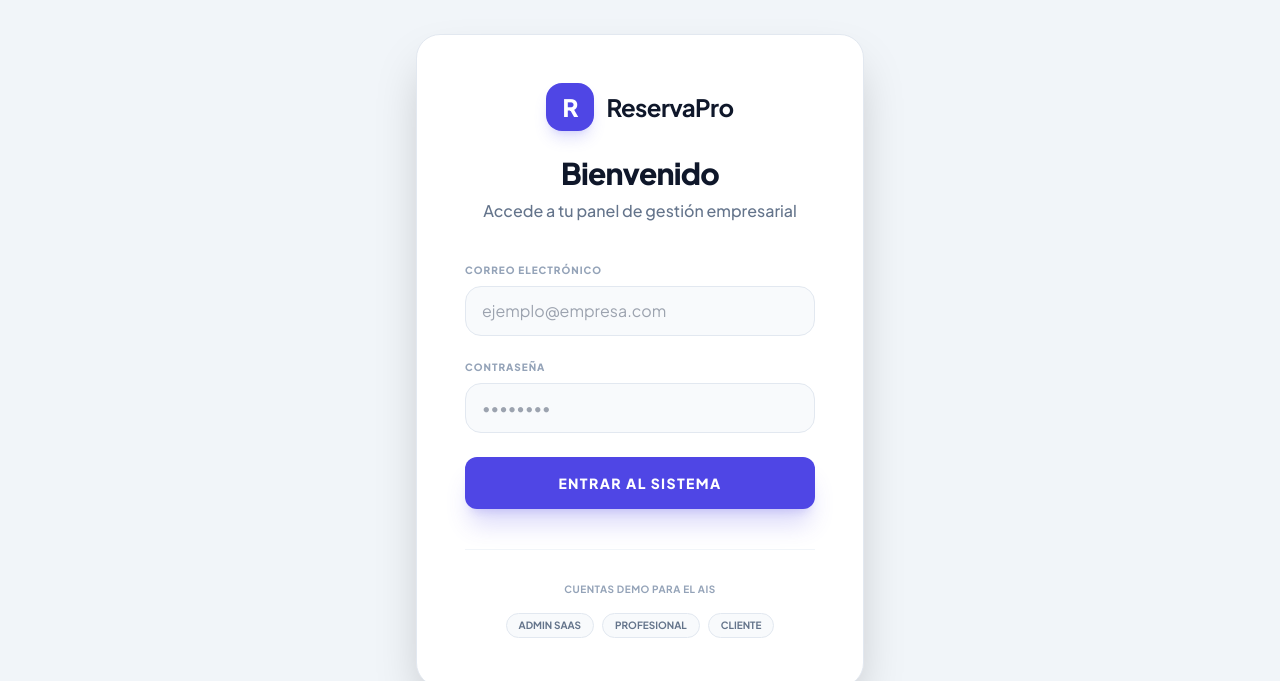
Scenario: Pruebas del módulo profesional › 7) Crear cliente => aparece en lista
In the field with test id "login-email": point(640, 311) [465,286,815,336], type "roberto@saludplus.com"
In the password field with test id "login-password": point(640, 408) [465,383,815,433], type "propassword"
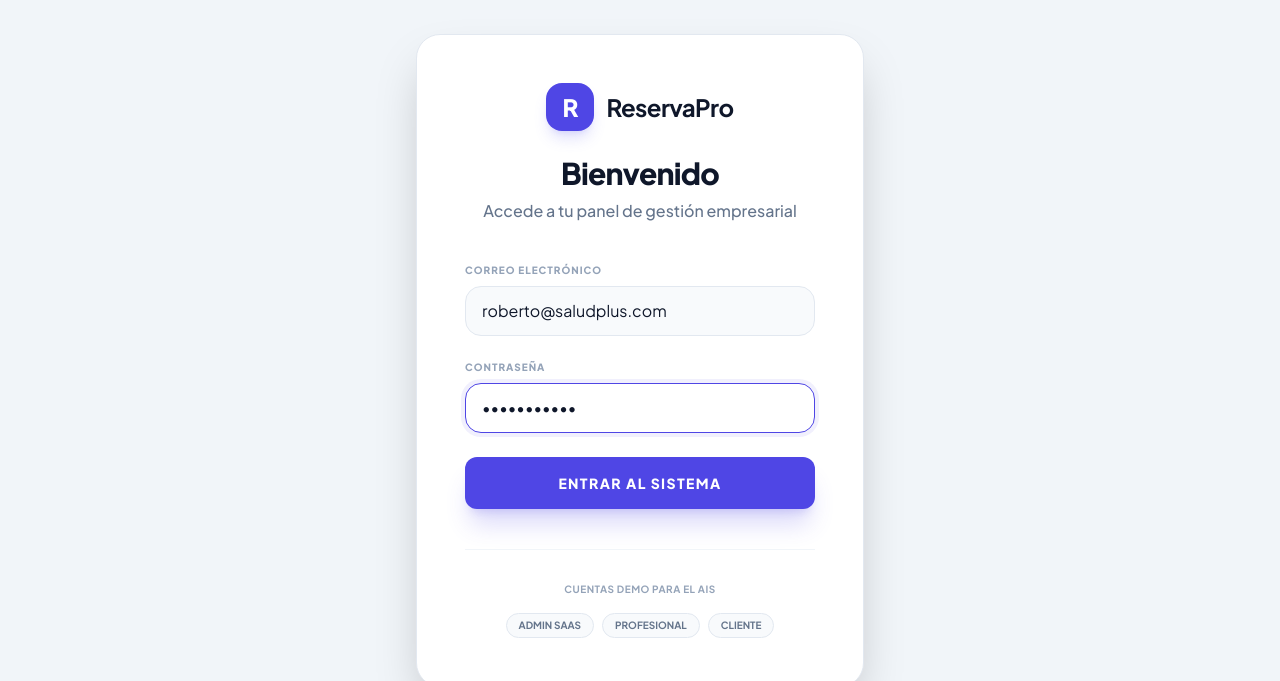
Click the button with test id "login-submit": point(640, 483) [465,457,815,509]
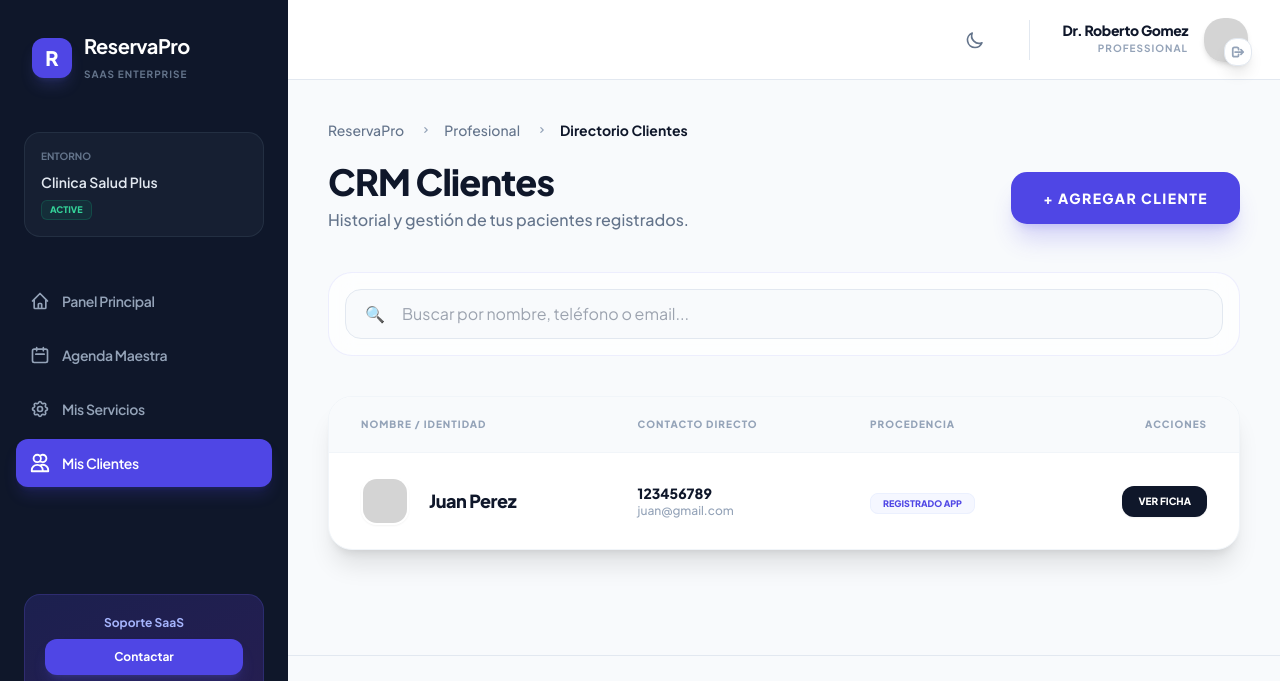
Click the button "+ Agregar Cliente": point(1126, 198) [1011,172,1240,224]
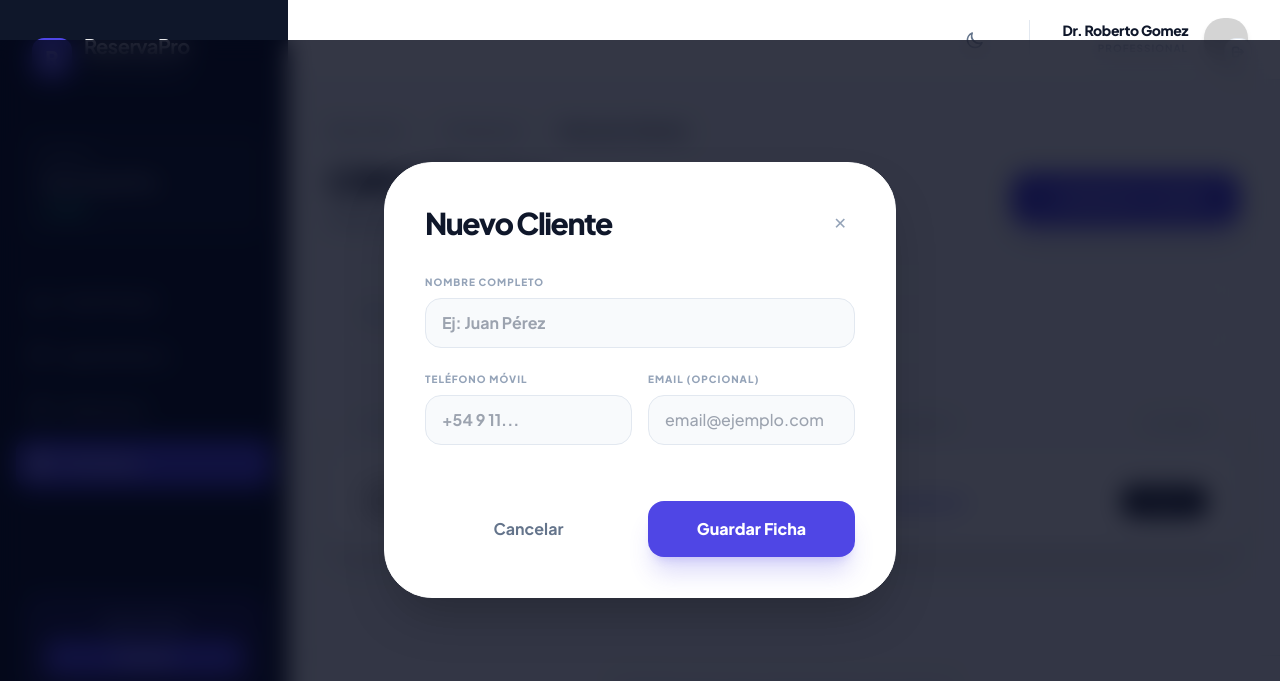
In the field with placeholder "Ej: Juan Pérez": point(640, 323) [425,298,855,348], type "Nuevo Cliente Cypress"
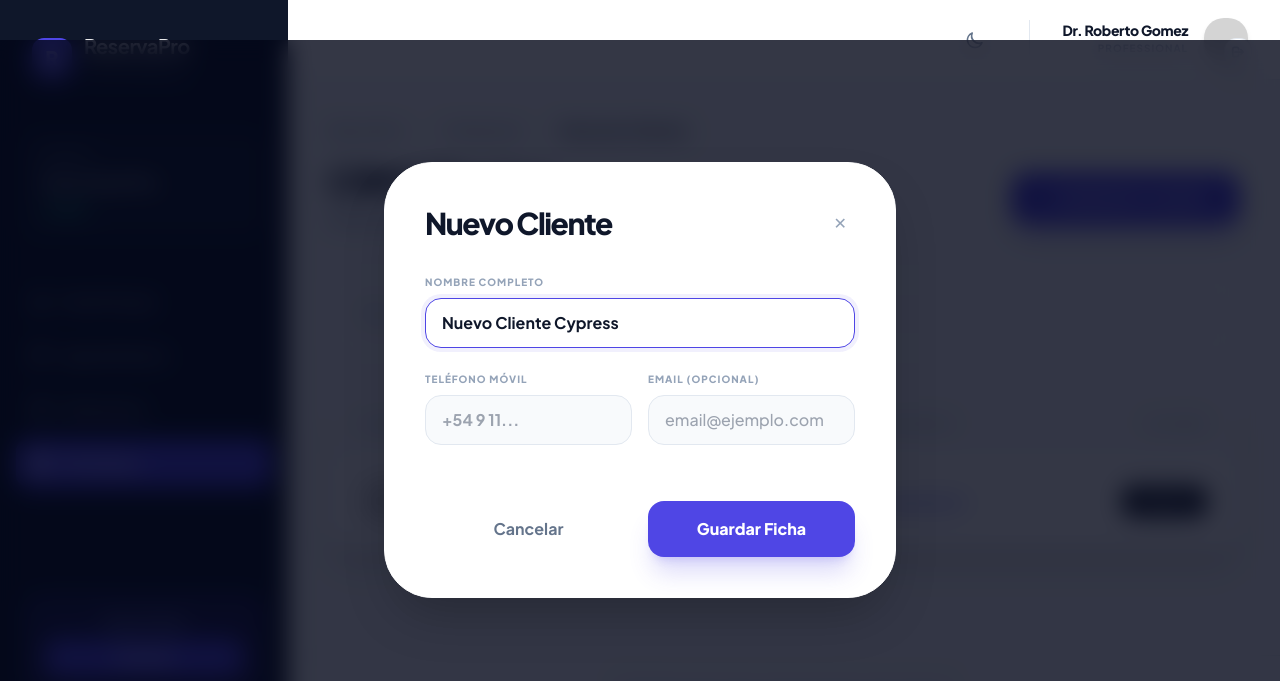
In the field with placeholder "+54 9 11...": point(529, 420) [425,395,632,445], type "12345678"
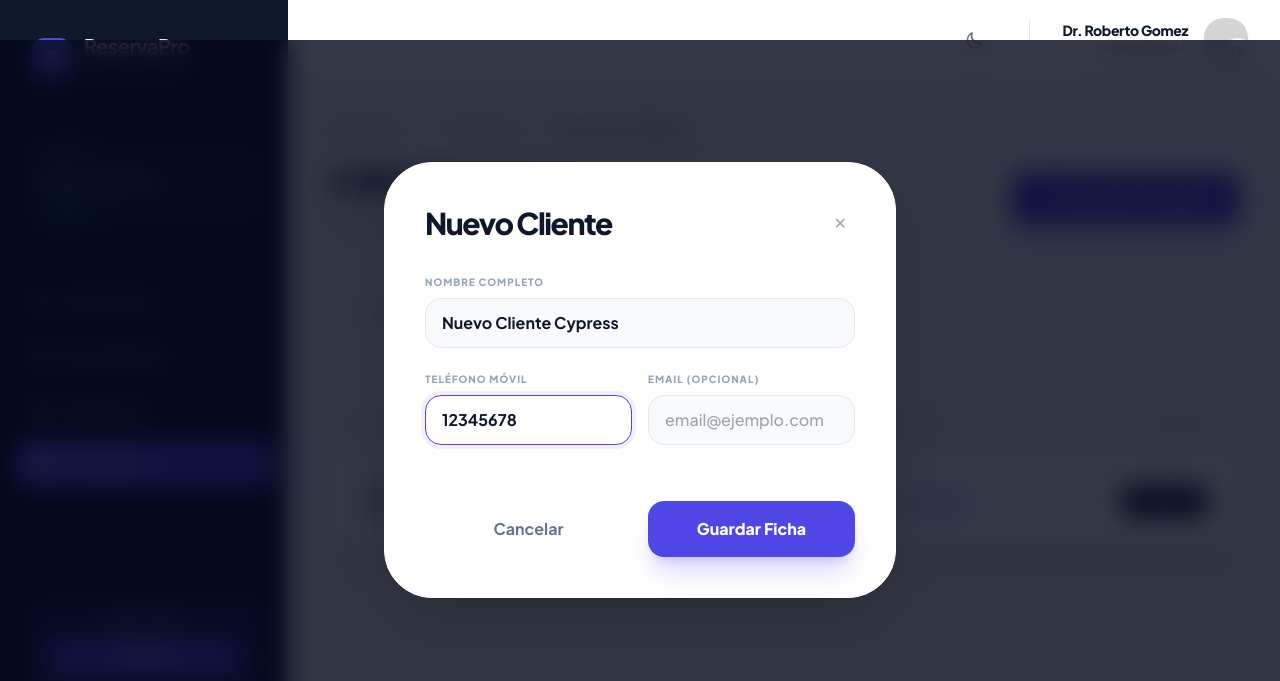
Click the button "Guardar Ficha": point(752, 529) [648,501,855,557]
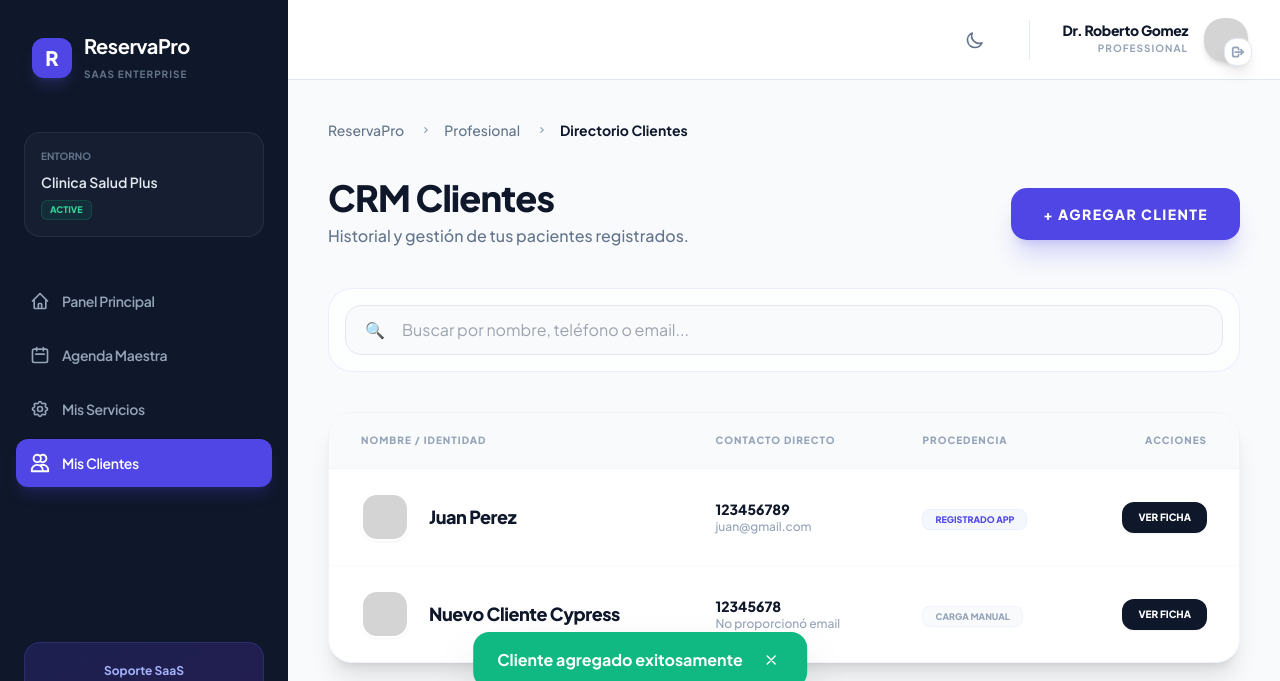
Now the text "Nuevo Cliente Cypress" is shown, box [429,600,620,628]
